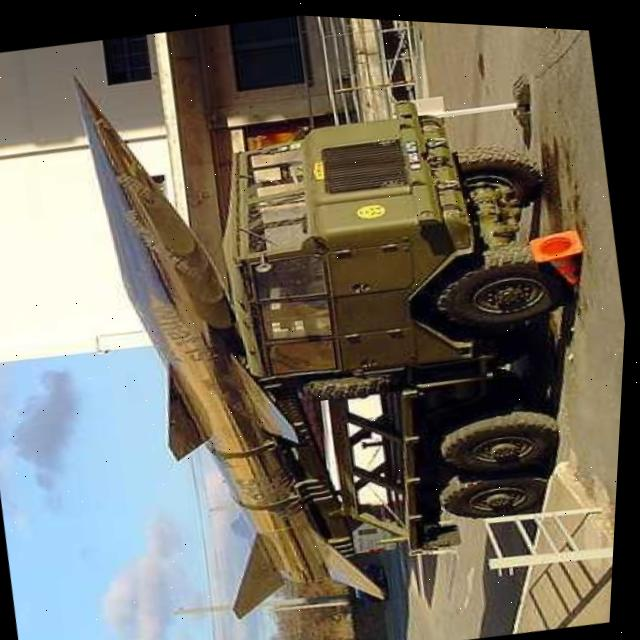missile: (51, 24, 422, 640)
